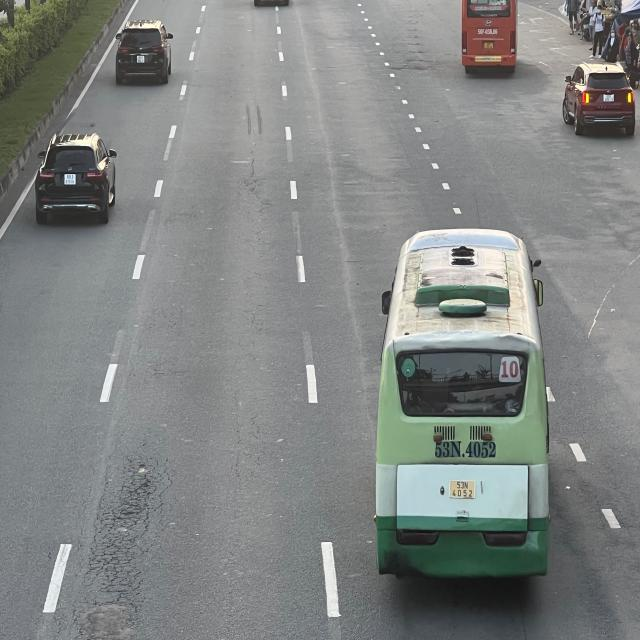car: (33, 132, 118, 222), (562, 62, 636, 135), (116, 21, 175, 87)
coach: (376, 226, 546, 588), (462, 0, 520, 71)
